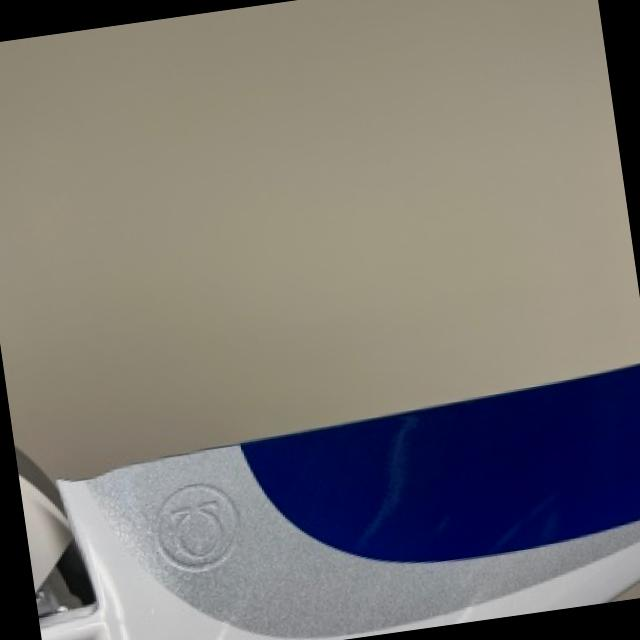healthy: (0, 0, 640, 477), (40, 364, 640, 640)
